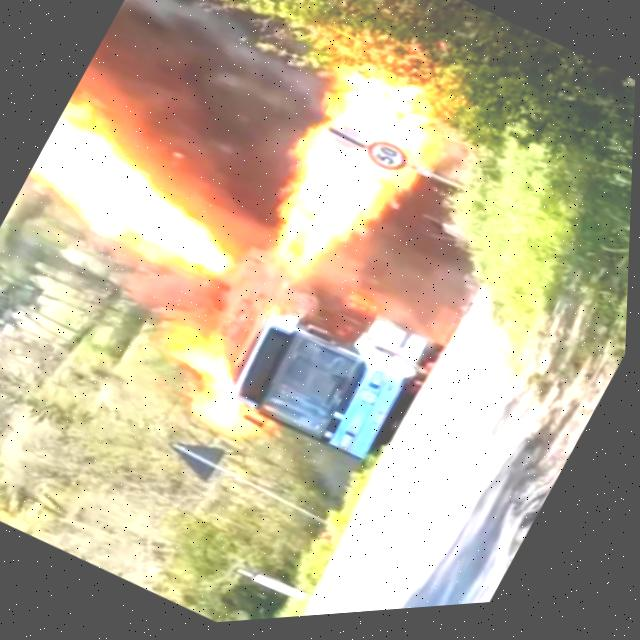Fire: (245, 29, 466, 304), (14, 99, 261, 301), (138, 317, 291, 453)
Smoke: (92, 0, 345, 201), (317, 158, 527, 361)
